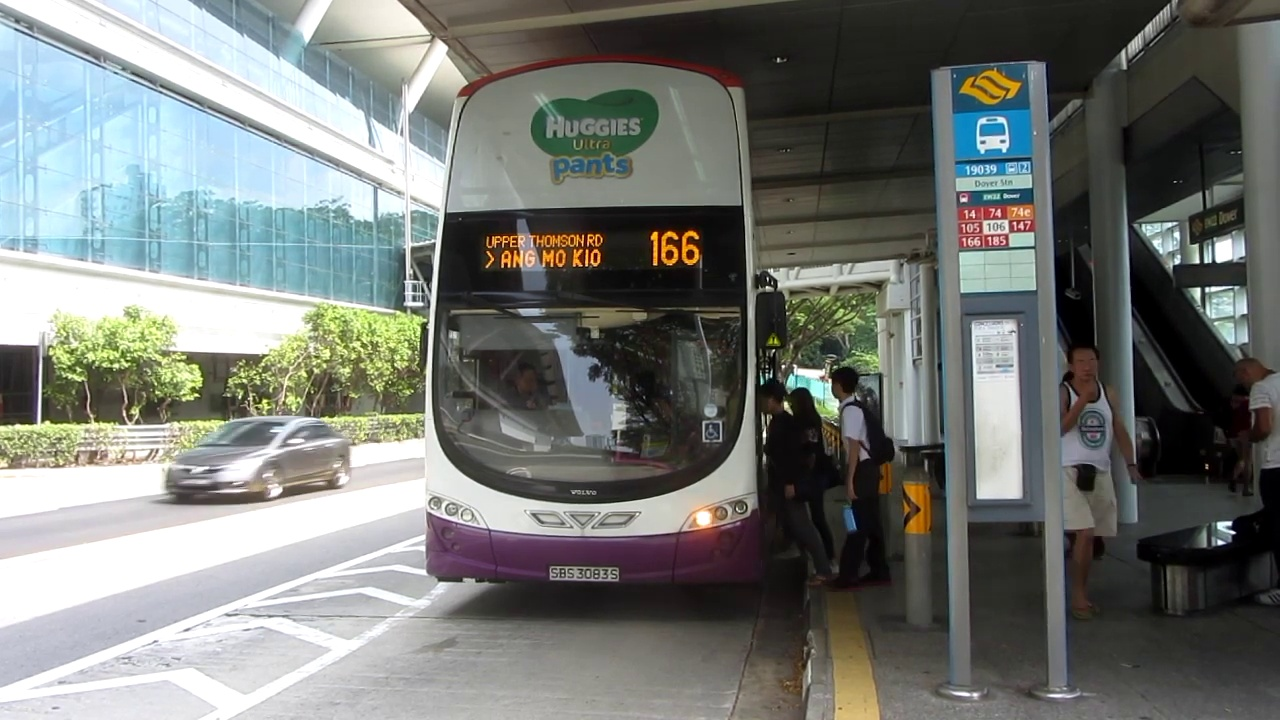bus panel: (477, 227, 708, 274)
